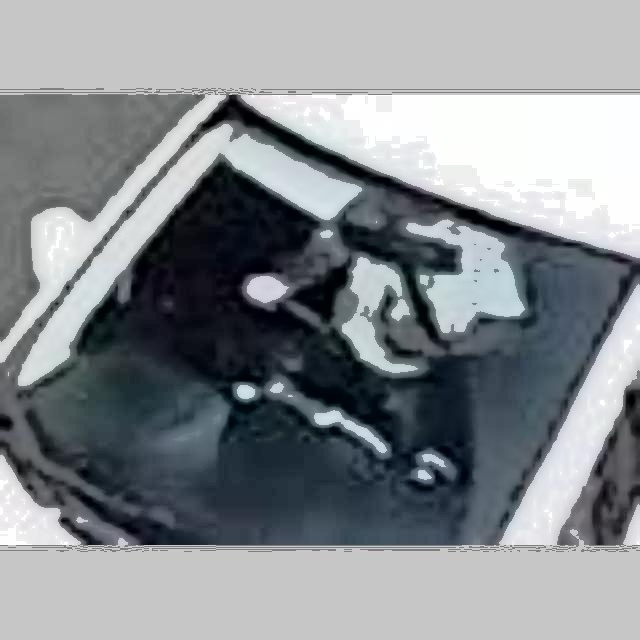pakai: (271, 214, 515, 420)
